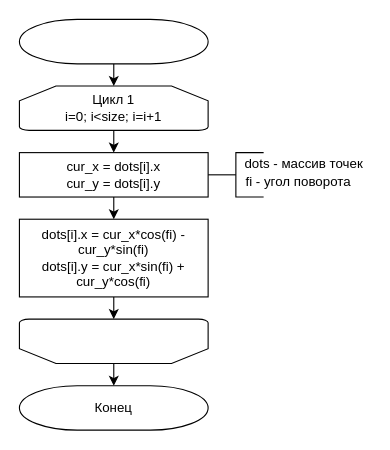
The diagram is 390 pixels wide and 450 high, and some of its shapes have lost their labels. Each missing label, with the box of its shape:
Конец цикла 1: (18, 318, 208, 364)
Начало: (18, 18, 208, 64)
